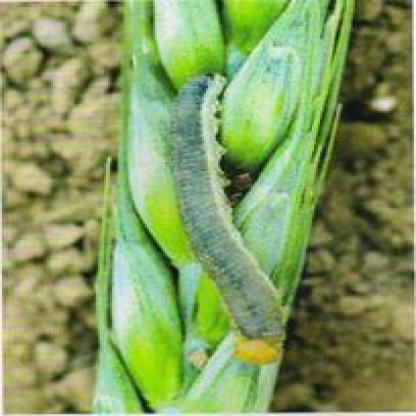sawfly: (163, 62, 291, 366)
